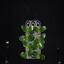leaf: (21, 25, 28, 32), (39, 33, 46, 40), (22, 38, 28, 46), (38, 40, 44, 48), (20, 52, 28, 58), (39, 26, 46, 32), (39, 54, 45, 61), (19, 36, 27, 41), (28, 34, 34, 40), (32, 43, 38, 49), (32, 51, 39, 56), (28, 26, 34, 31), (28, 49, 32, 56), (33, 27, 38, 32), (34, 39, 39, 44), (28, 30, 33, 34), (28, 43, 32, 48), (24, 36, 28, 40), (34, 55, 38, 58), (36, 28, 39, 31)
